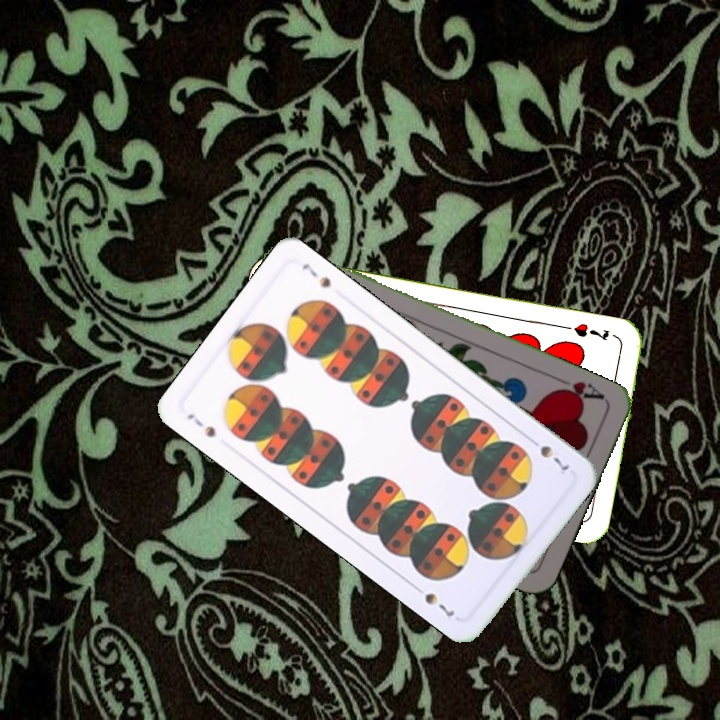H7: (570, 319, 612, 344)
HA: (549, 373, 608, 406)
S7: (524, 433, 572, 474), (183, 409, 218, 440)
